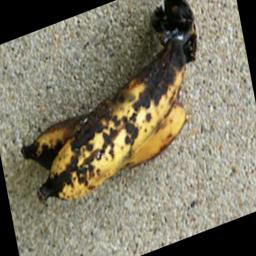Banana Rotten: (10, 52, 207, 210)
